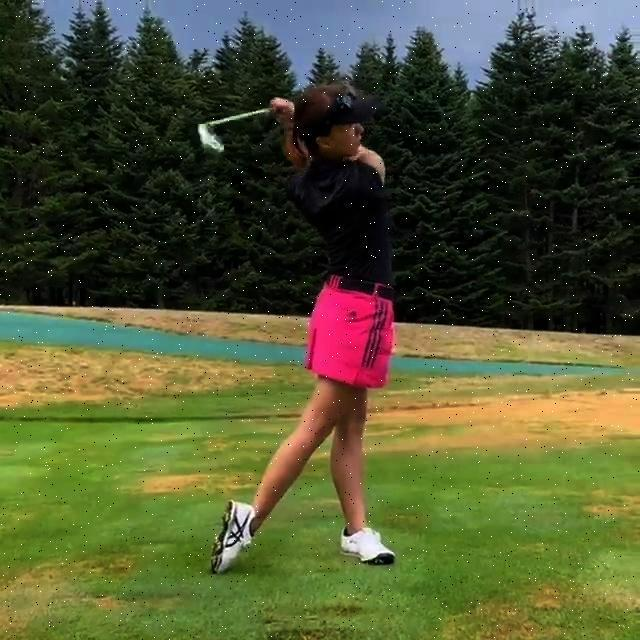ClubHead: (197, 122, 224, 152)
